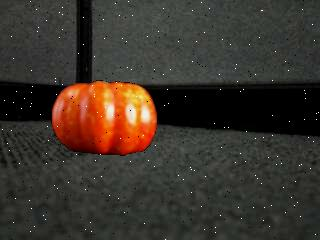Pumpkin: (50, 81, 158, 156)
